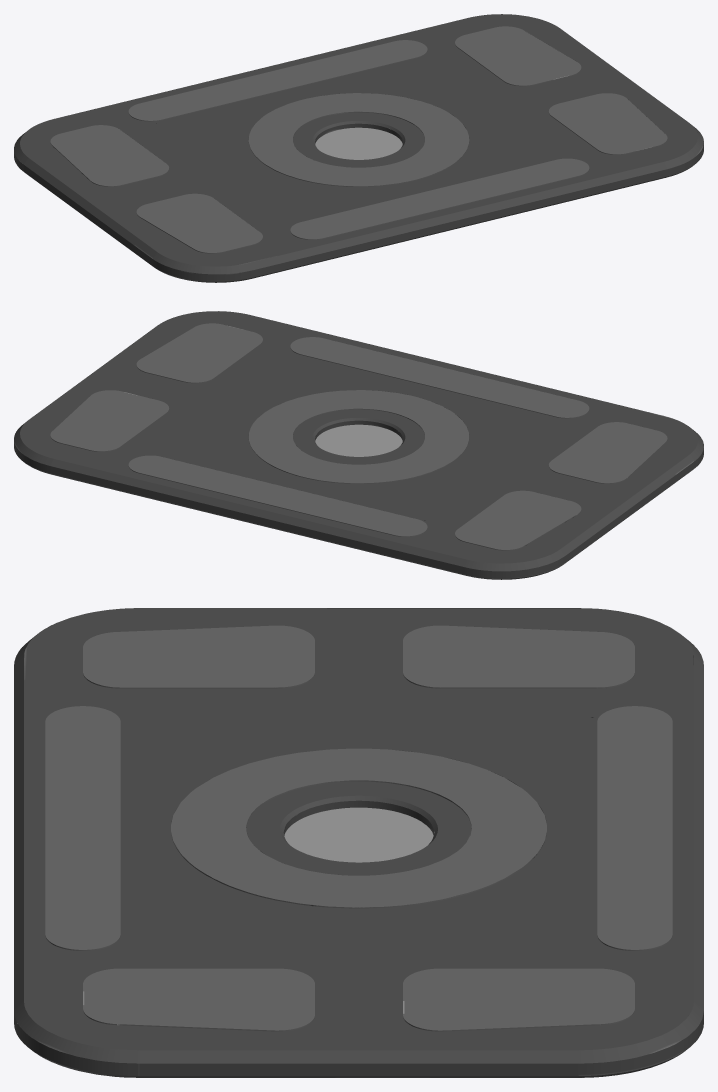
The model's file is plate_up.dae.
3 views of the same model, one above another, from view 1: azimuth 30°, elevation 25°; view 2: azimuth 150°, elevation 25°; view 3: azimuth 270°, elevation 25° (orthographic). The views are drawn at different scales.
Visible parts, largest first — view 1: Object.005, Object.003, Object.002, Object.007, Object.008, Object.006, Object, Object.004, Object.001; view 2: Object.005, Object.003, Object.002, Object.007, Object.004, Object, Object.008, Object.006, Object.001; view 3: Object.005, Object.003, Object.007, Object.002, Object.008, Object, Object.006, Object.004, Object.001.
Part boxes in pixels (x1,y1,x2,y2): Object.005: (14,14,703,282); Object.003: (248,93,469,186); Object.002: (128,40,427,121); Object.007: (290,158,589,239); Object.008: (455,26,581,86); Object.006: (136,193,262,253); Object: (548,93,667,154); Object.004: (50,125,169,186); Object.001: (315,127,402,159); Object.005: (14,311,703,579); Object.003: (248,390,469,483); Object.002: (128,455,427,536); Object.007: (290,337,589,418); Object.004: (455,490,581,550); Object: (136,323,262,383); Object.008: (50,390,169,451); Object.006: (548,422,667,483); Object.001: (315,424,402,456); Object.005: (14,608,703,1077); Object.003: (171,748,546,908); Object.007: (45,706,120,950); Object.002: (597,706,672,950); Object.008: (403,968,634,1031); Object: (83,968,314,1031); Object.006: (83,625,314,688); Object.004: (403,625,634,688); Object.001: (284,807,434,862).
Bounding box in the file's own units: 0.85 × 0.55 × 0.023.
1 material, 1 textured.
